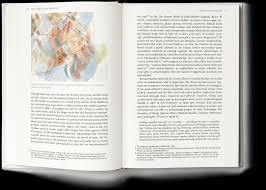Paper: (0, 3, 257, 190)
